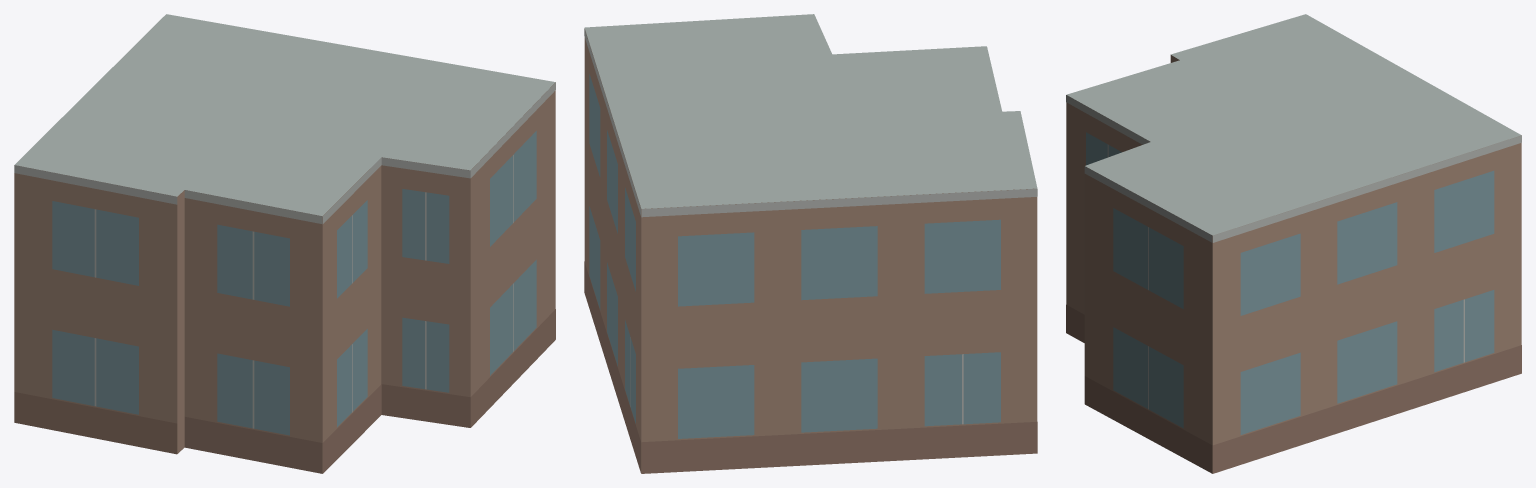
The model's file is survey-upis-33025762.glb.
3 renders of one model, left to right at view 1: azimuth 30°, elevation 25°; view 2: azimuth 150°, elevation 25°; view 3: azimuth 270°, elevation 25°, orthographic. The views are drawn at different scales.
Parts seen in each view (by area): view 1: survey-upis-33025762.tmp; view 2: survey-upis-33025762.tmp; view 3: survey-upis-33025762.tmp.
Part boxes in pixels (bbox=[...]): survey-upis-33025762.tmp: bbox=[14, 14, 555, 473]; survey-upis-33025762.tmp: bbox=[584, 14, 1037, 473]; survey-upis-33025762.tmp: bbox=[1066, 14, 1521, 473].
Size of the model in its own units: 15.56 by 7.8 by 13.52.
